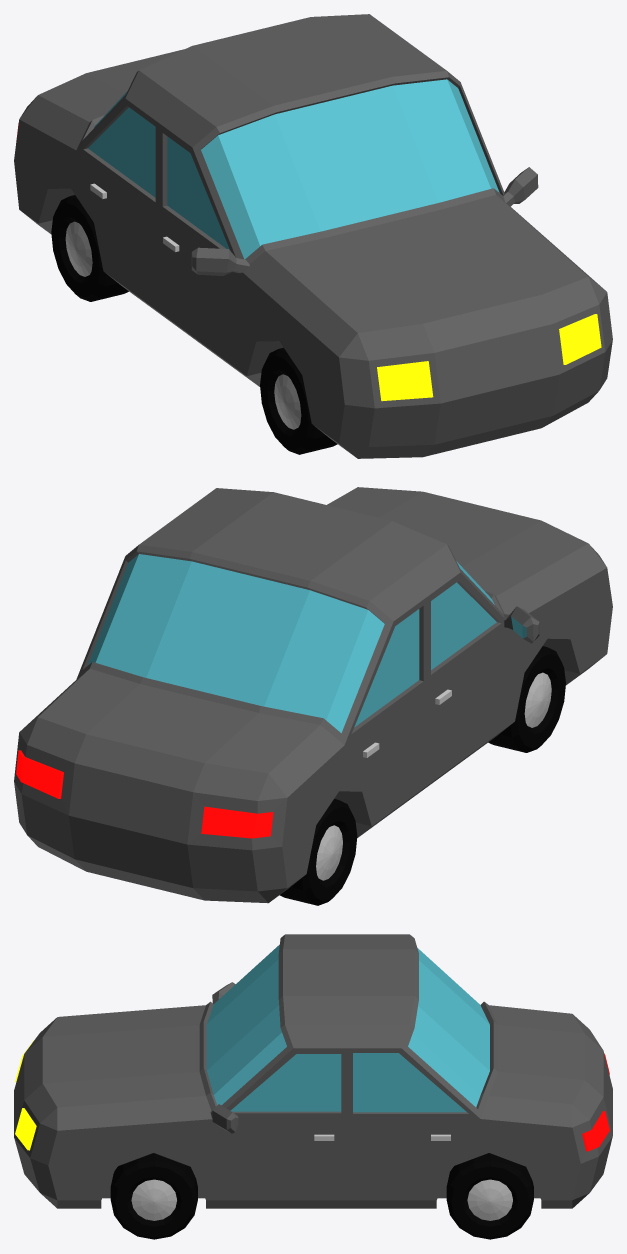
The model's file is sedan.fbx.
The picture shows the model from 3 angles, top to bottom: view 1: azimuth 30°, elevation 25°; view 2: azimuth 150°, elevation 25°; view 3: azimuth 270°, elevation 25°; orthographic projection. The views are drawn at different scales.
Visible parts, largest first — view 1: sedan, sedan_br, sedan_fr; view 2: sedan, sedan_fr, sedan_br; view 3: sedan, sedan_fl, sedan_bl.
Boxes of the visible parts, x1,y1,x2,y2 form: sedan: [14, 14, 612, 458]; sedan_br: [51, 195, 128, 301]; sedan_fr: [260, 347, 337, 454]; sedan: [14, 487, 612, 903]; sedan_fr: [488, 646, 565, 752]; sedan_br: [280, 799, 357, 905]; sedan: [14, 934, 612, 1208]; sedan_fl: [110, 1153, 197, 1239]; sedan_bl: [446, 1153, 533, 1239].
Size of the model in its own units: 257 by 193 by 480.
